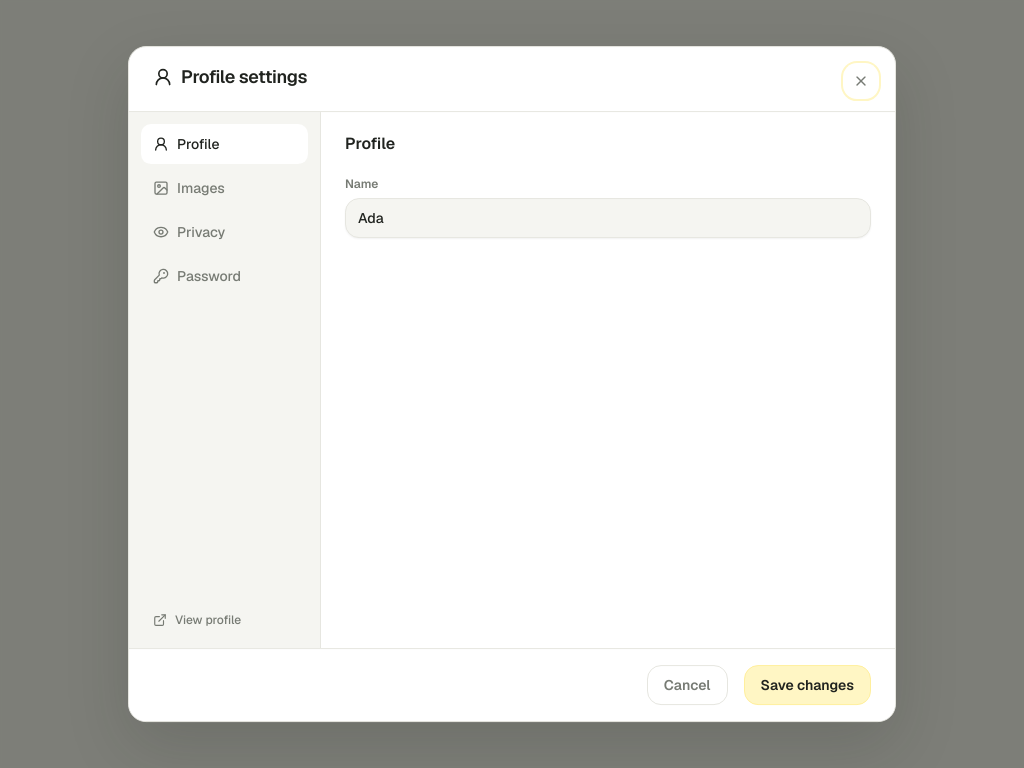
Test case: ProfileSettingsModal › validates password confirmation and minimum length
Click the button "Password" at point(224, 276), box [141,256,308,296]
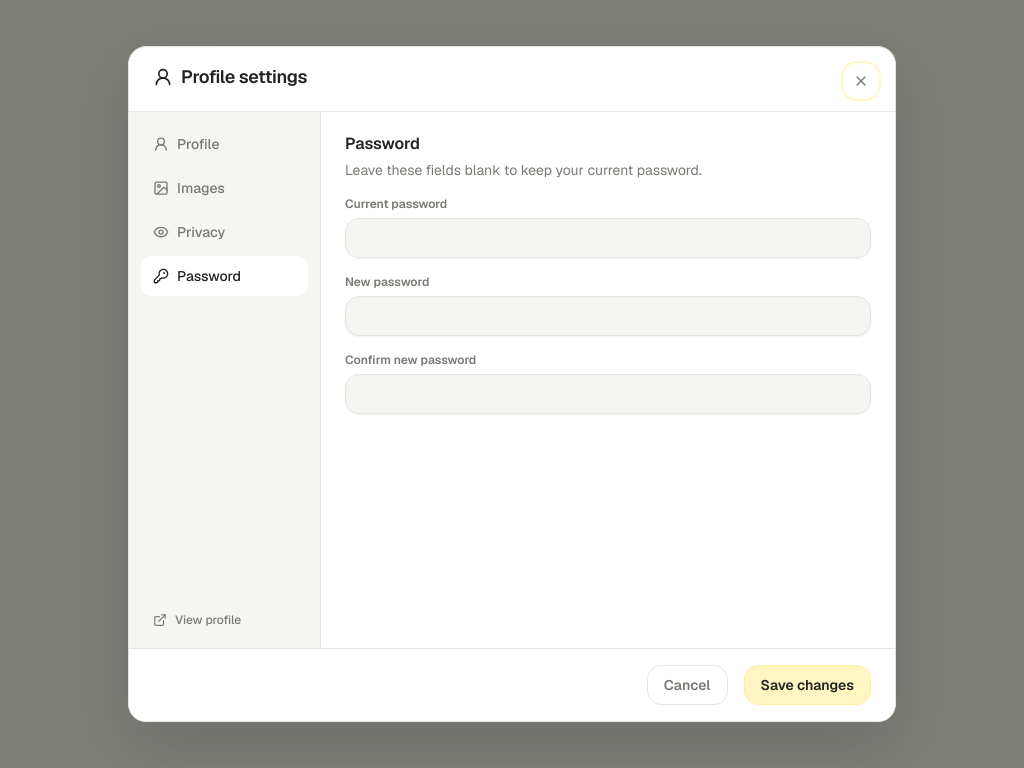
Type "long-enough-password" into the password field labelled "New password" at point(608, 316), box [345,296,871,336]
Type "different-password" into the password field labelled "Confirm new password" at point(608, 394), box [345,374,871,414]
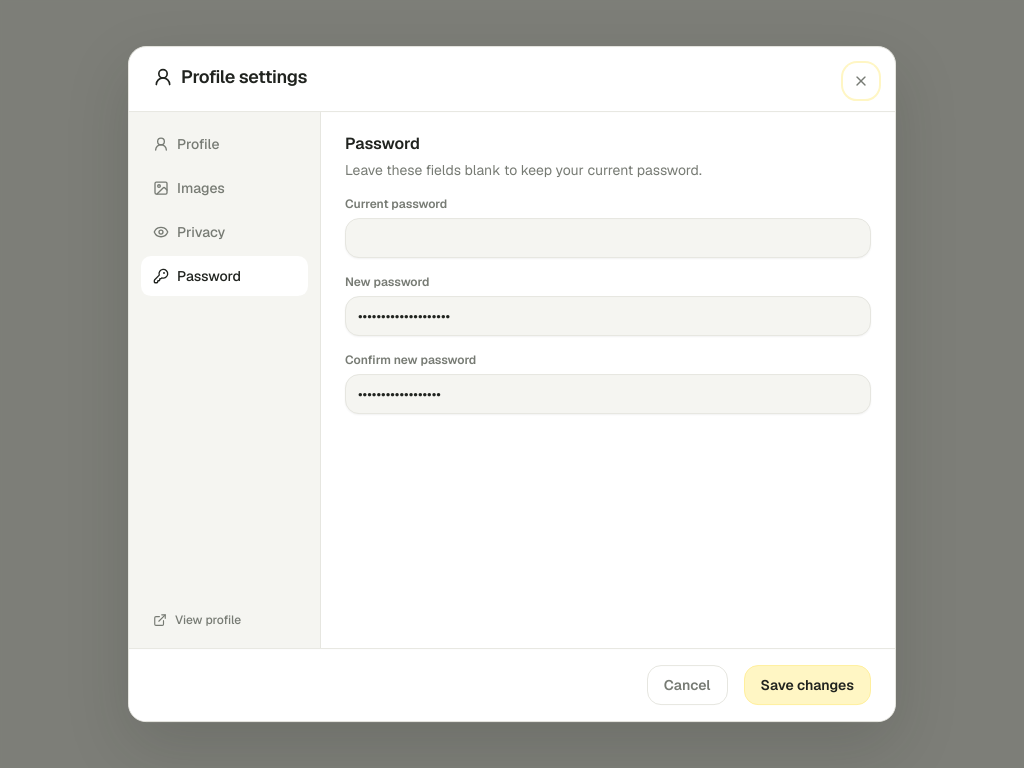
Click the button "Save changes" at point(807, 685), box [744,665,871,705]
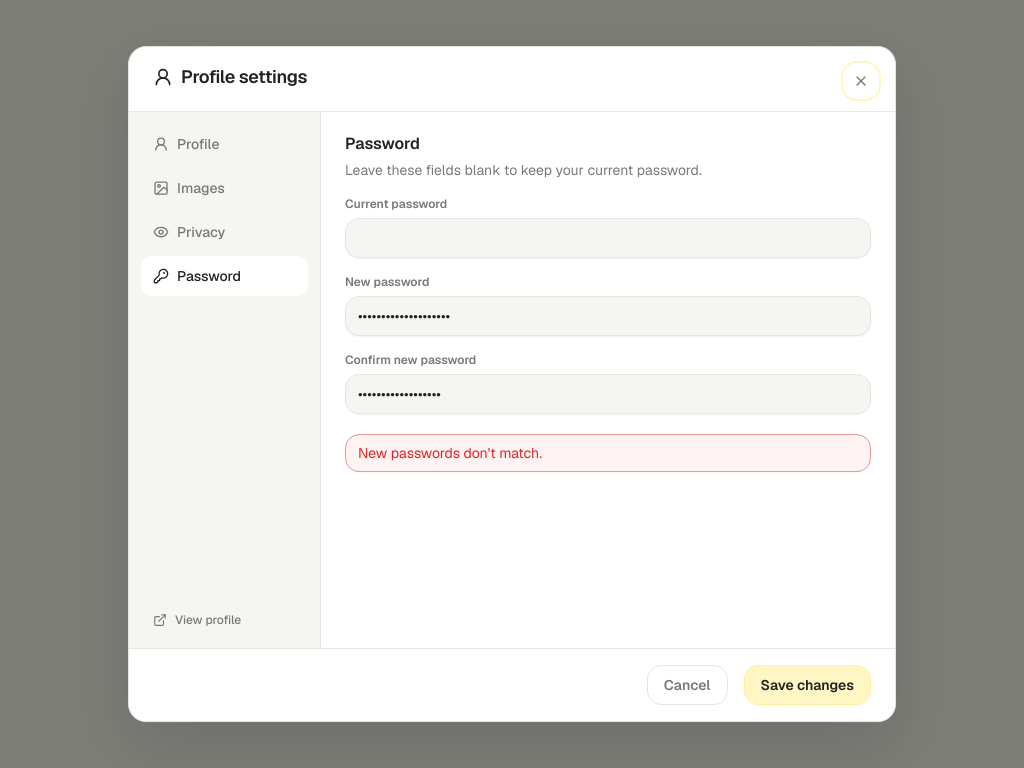
Result: the text "New passwords don't match." is shown at [345,434,871,472]
Type "short" into the password field labelled "New password" at point(608, 316), box [345,296,871,336]
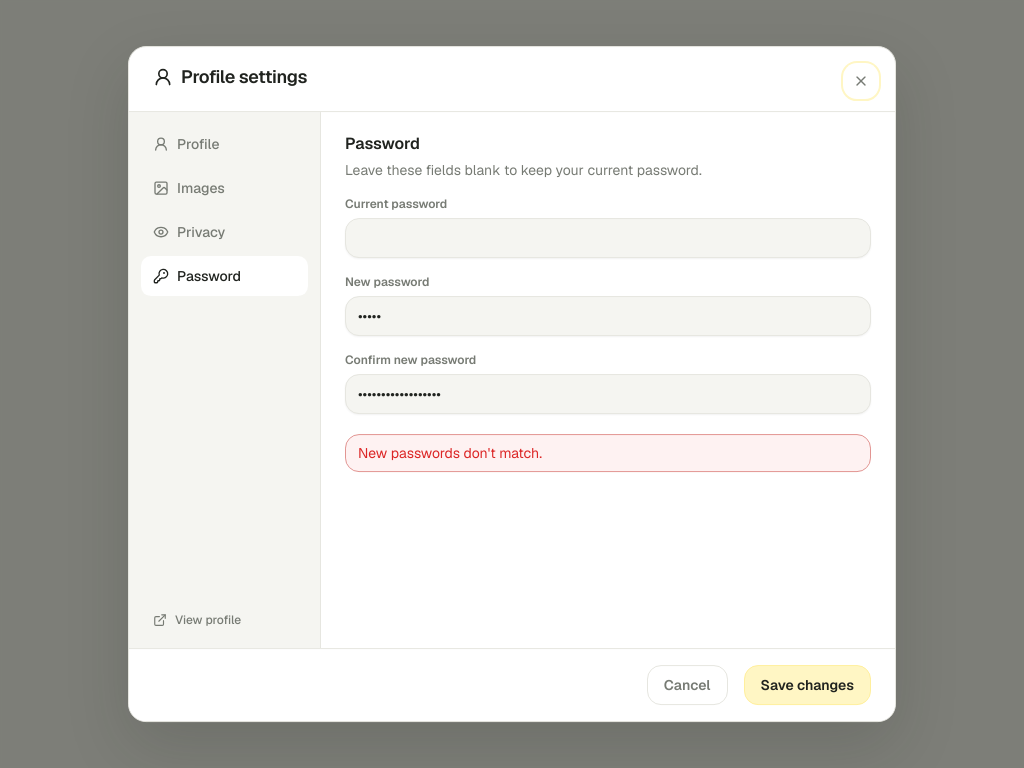
Type "short" into the password field labelled "Confirm new password" at point(608, 394), box [345,374,871,414]
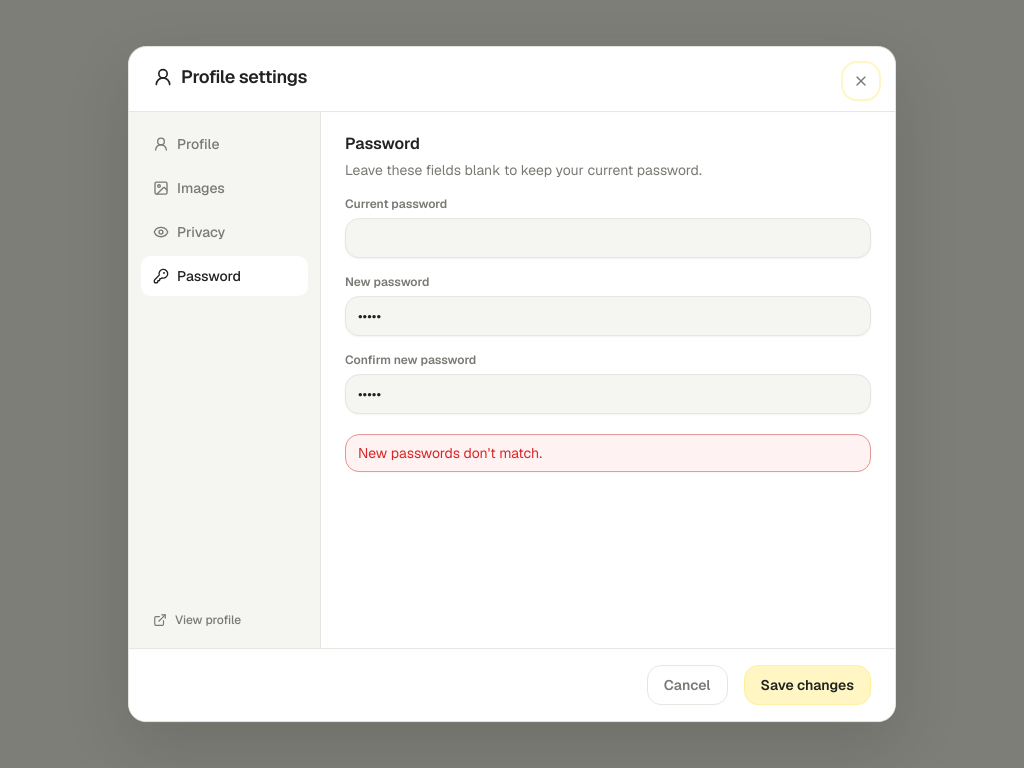
Click the button "Save changes" at point(807, 685), box [744,665,871,705]
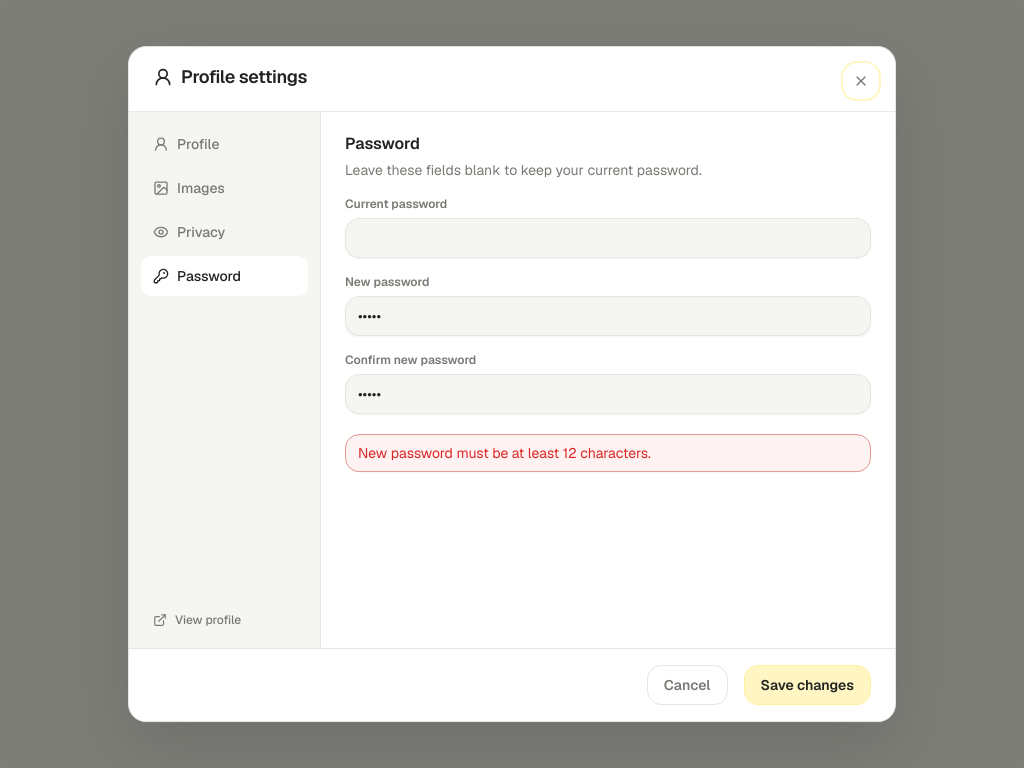
Result: the text "New password must be at least 12 characters." is shown at [345,434,871,472]
